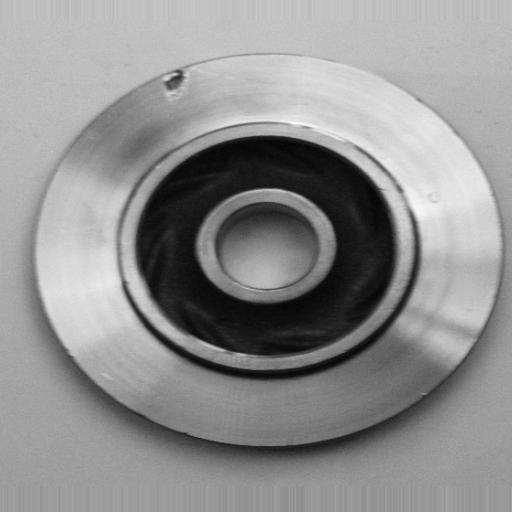crack: (154, 62, 197, 112)
scratch: (283, 110, 358, 148)
unpolished_casting: (30, 51, 503, 452)
